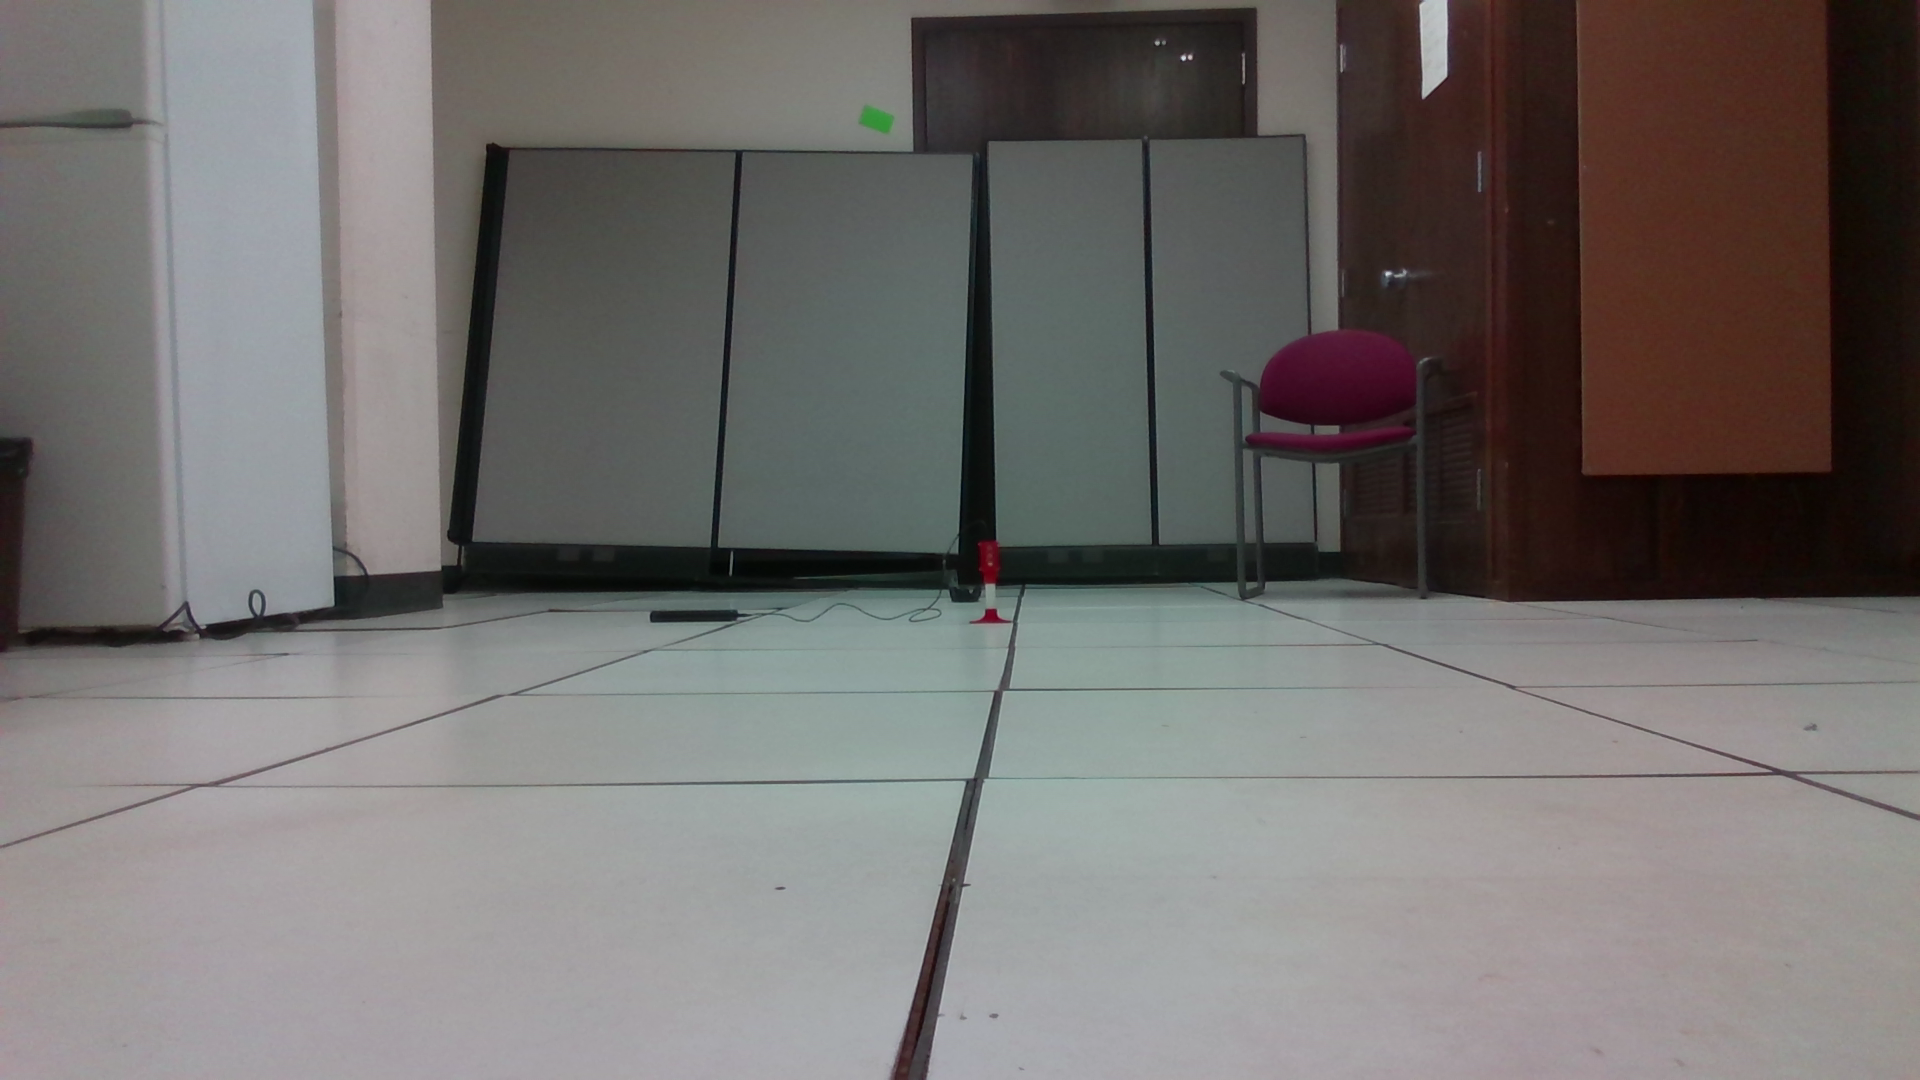stoplight: (977, 545, 1004, 583)
